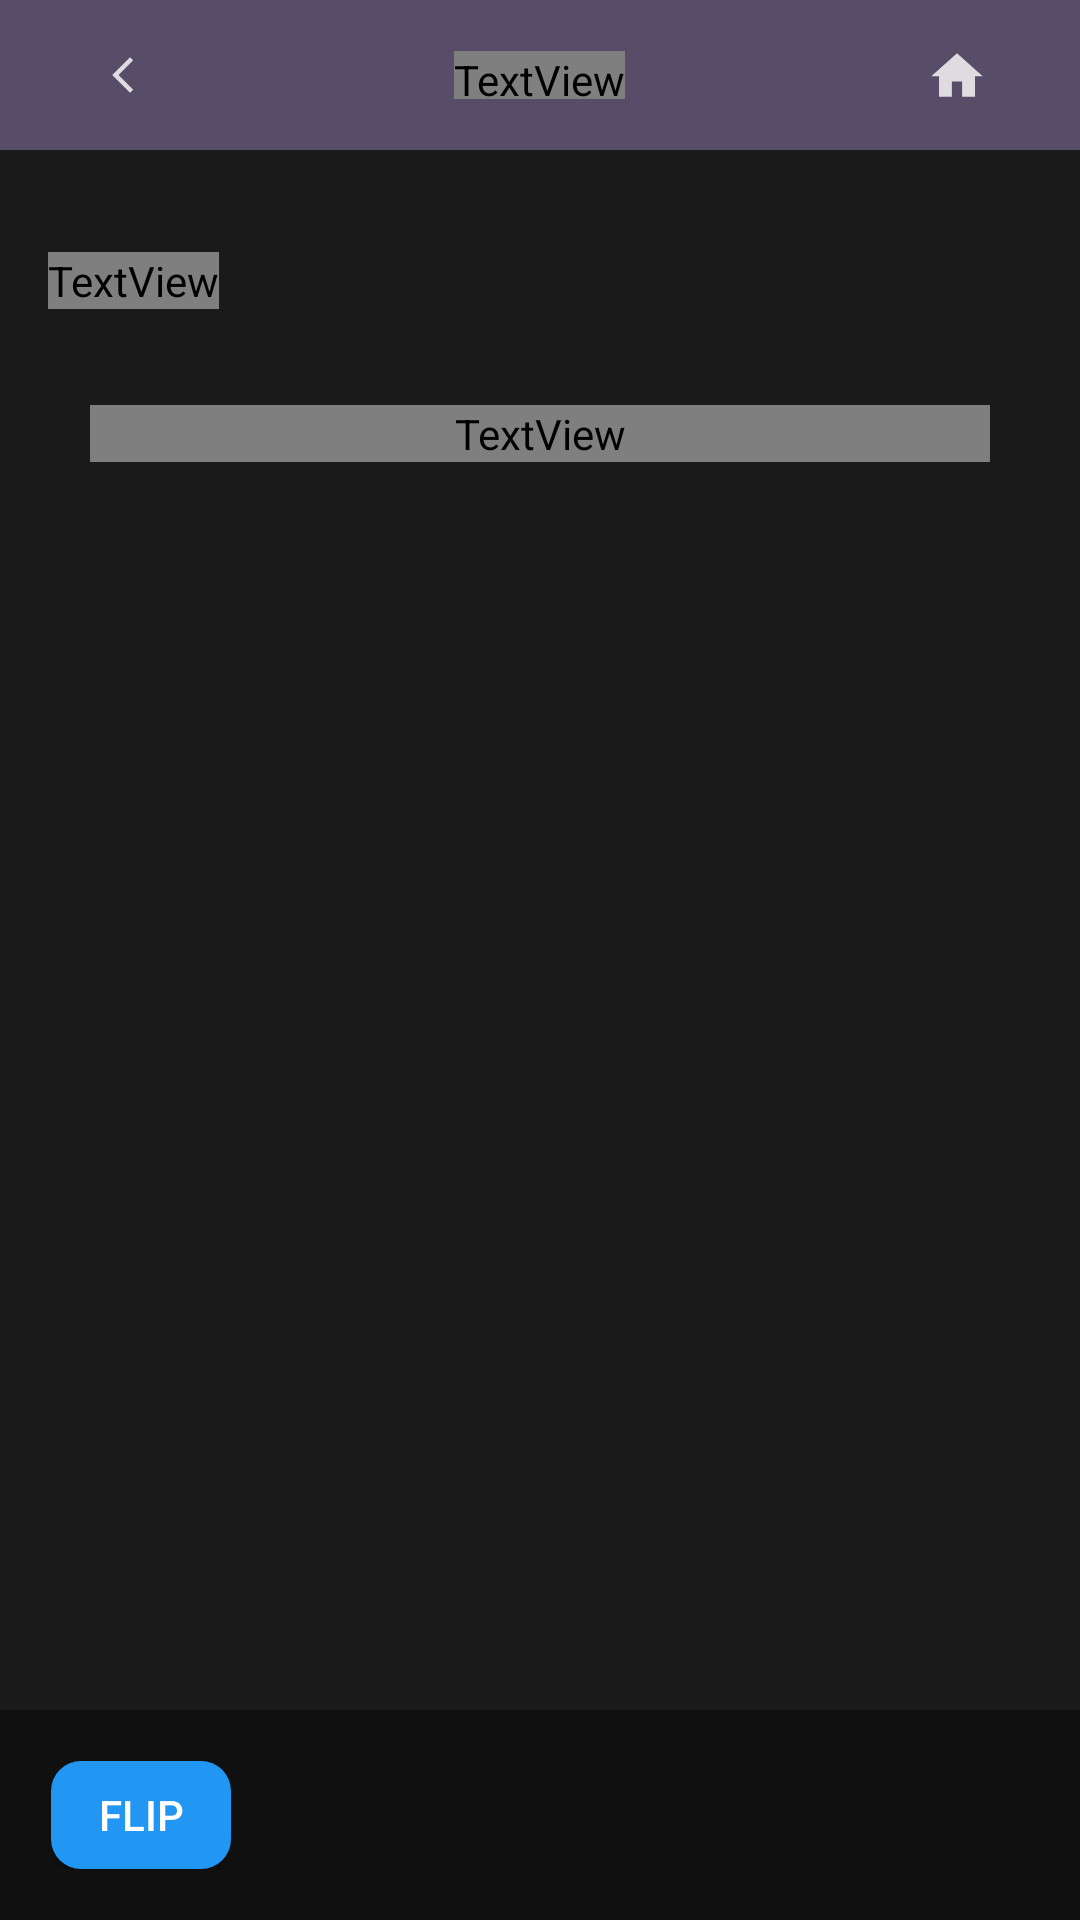

Icons on this 1080px x 1920px Android screen, each with the point to tap as (x,y):
back arrow: (122,75)
home: (957,75)
